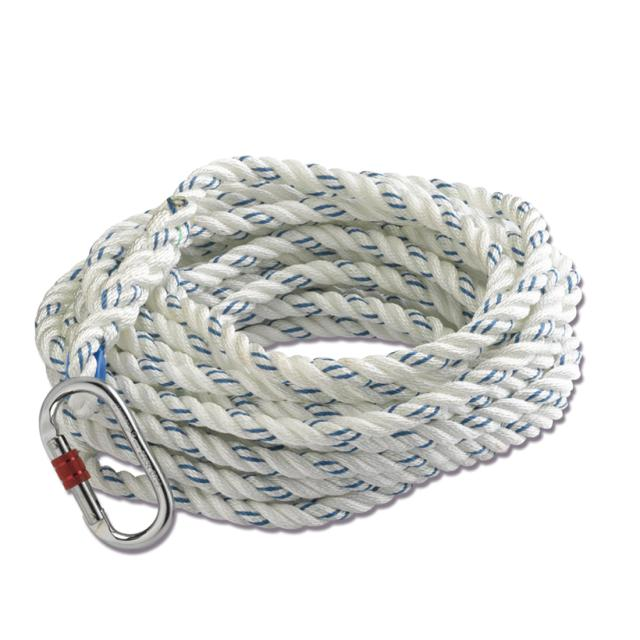Rope: (26, 140, 606, 543)
